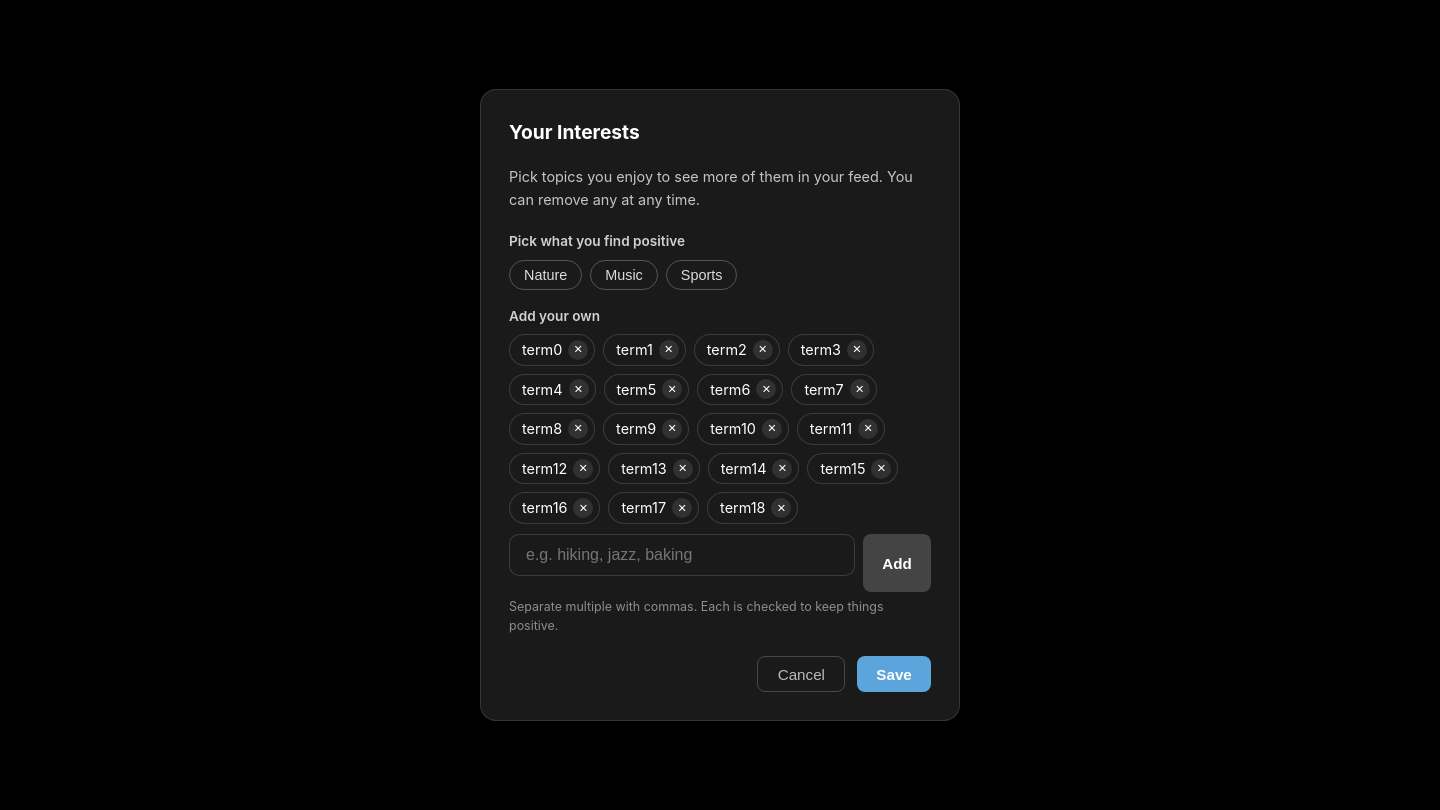
Test: blocks a comma list that would overflow the cap rather than dropping part of it
This screenshot has width=1440, height=810.
Expected: the button "Nature" is shown, [509,260,582,290]
Type "alpha, beta" into the field at (682, 555), box [509,534,855,576]
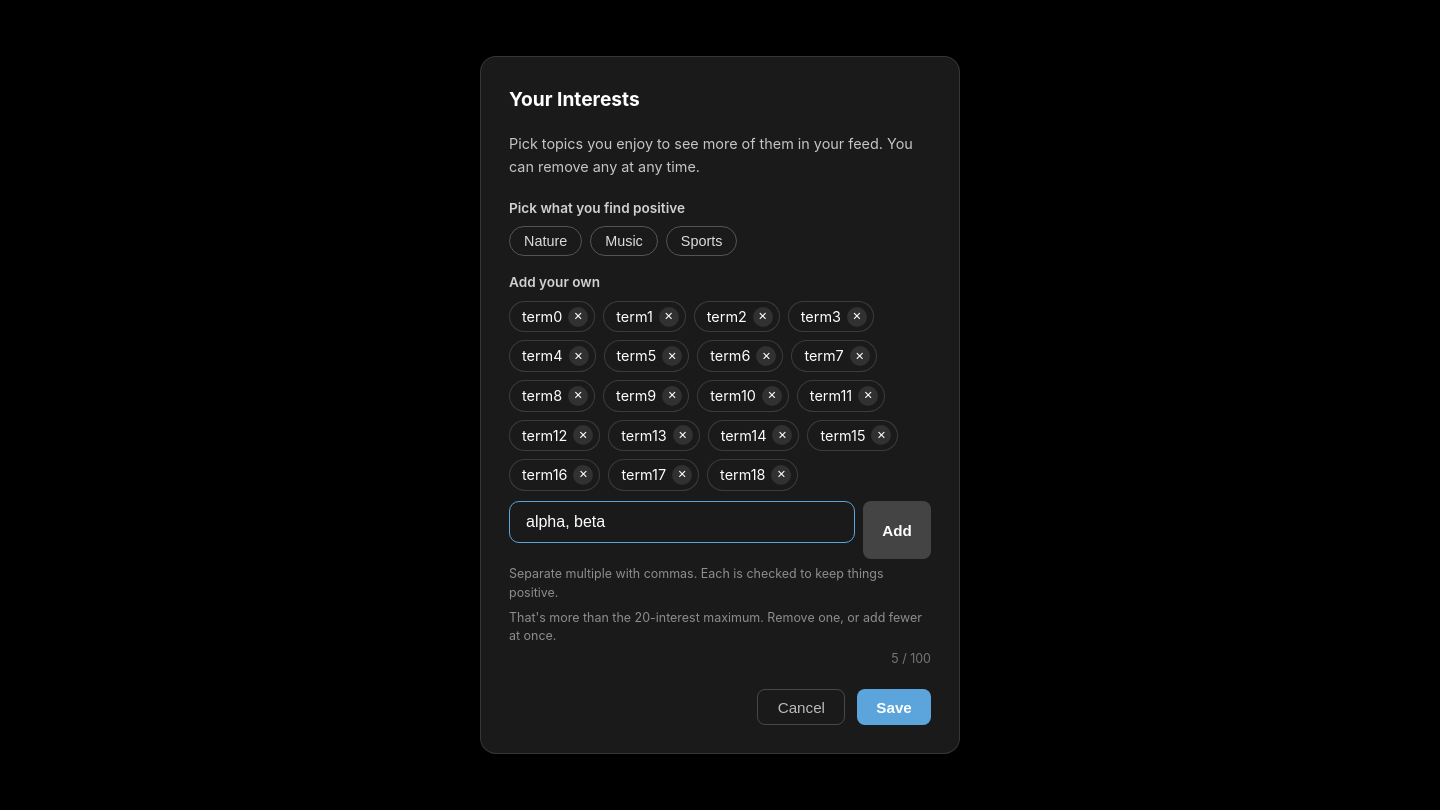
Expected: the button "Add" is disabled, [863,501,931,559]
// One term fits.
Clear the field at (682, 522), box [509,501,855,543]
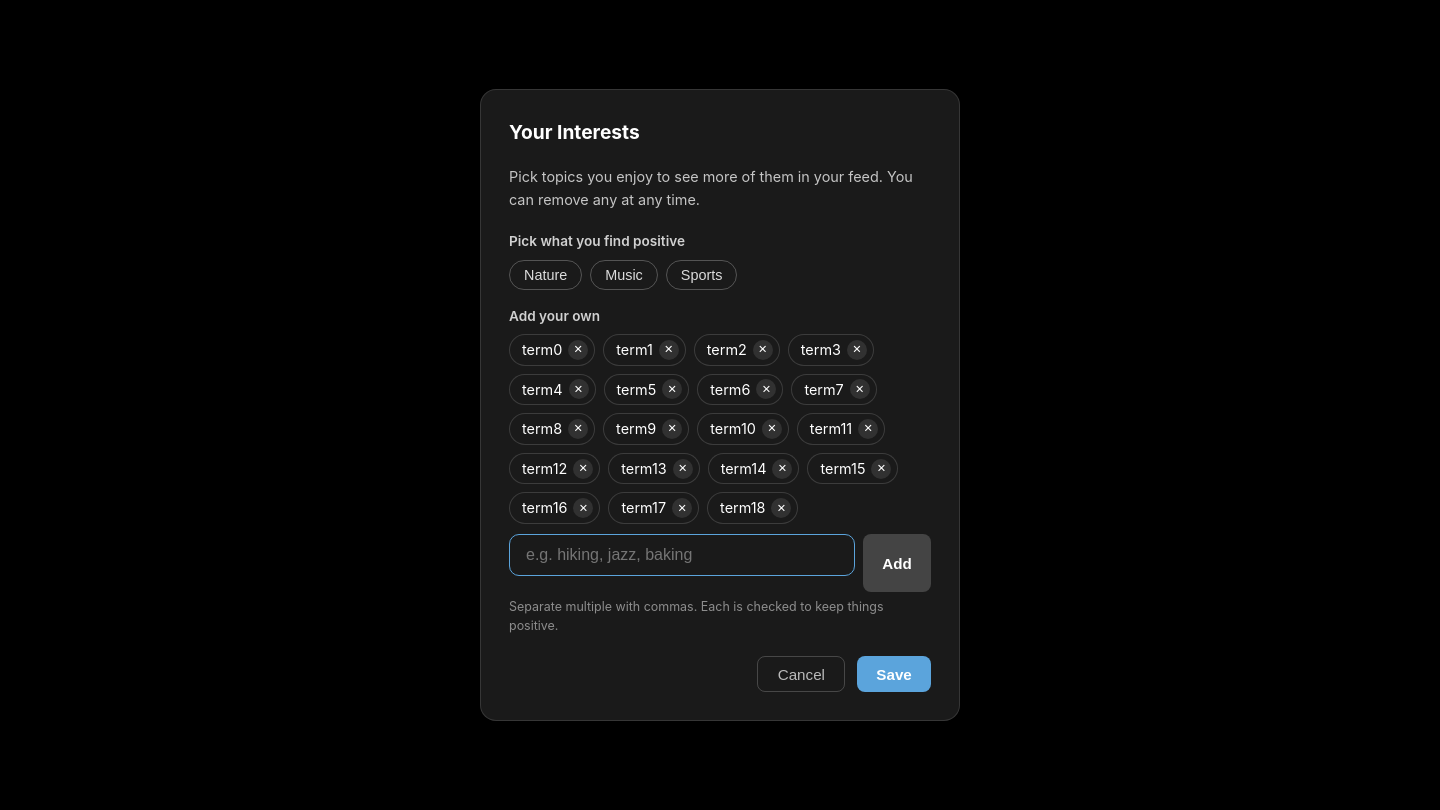
Type "alpha" into the field at (682, 555), box [509,534,855,576]
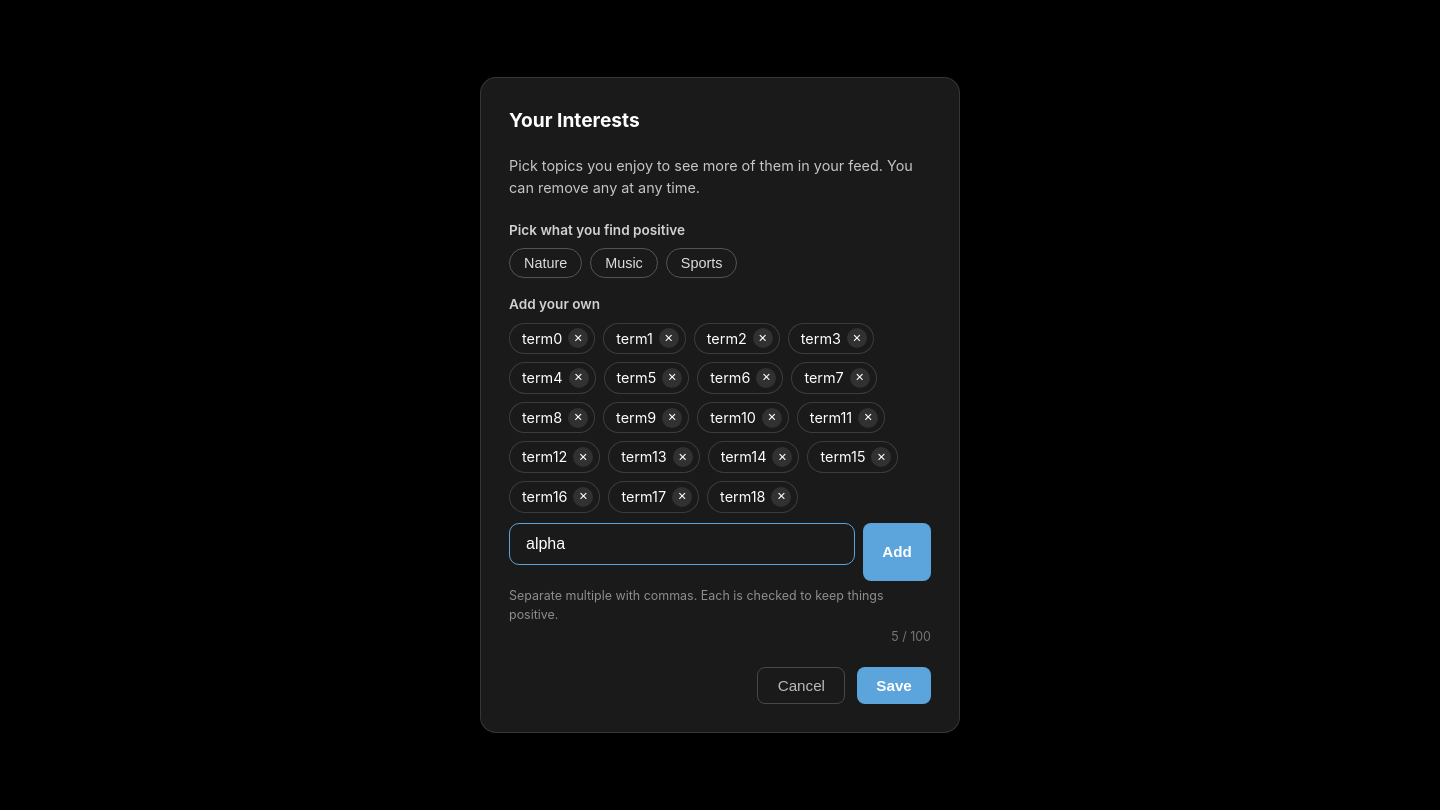
Result: the button "Add" is enabled at [863,523,931,581]
